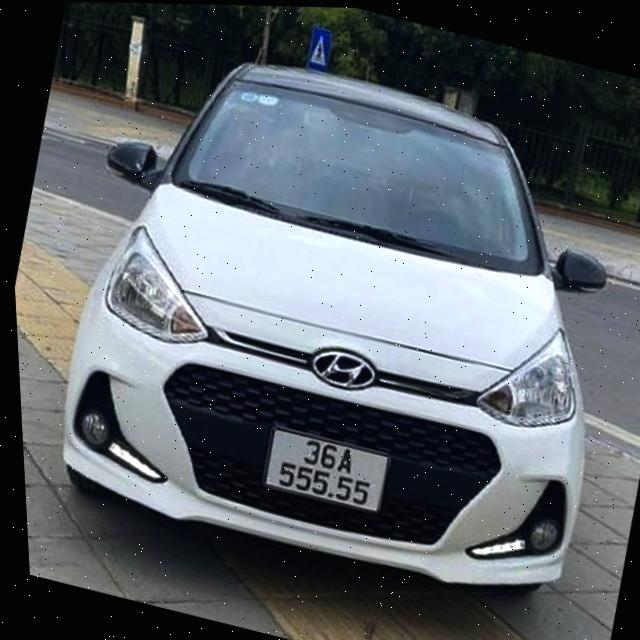car: (17, 20, 640, 640)
plate: (251, 417, 401, 520)
